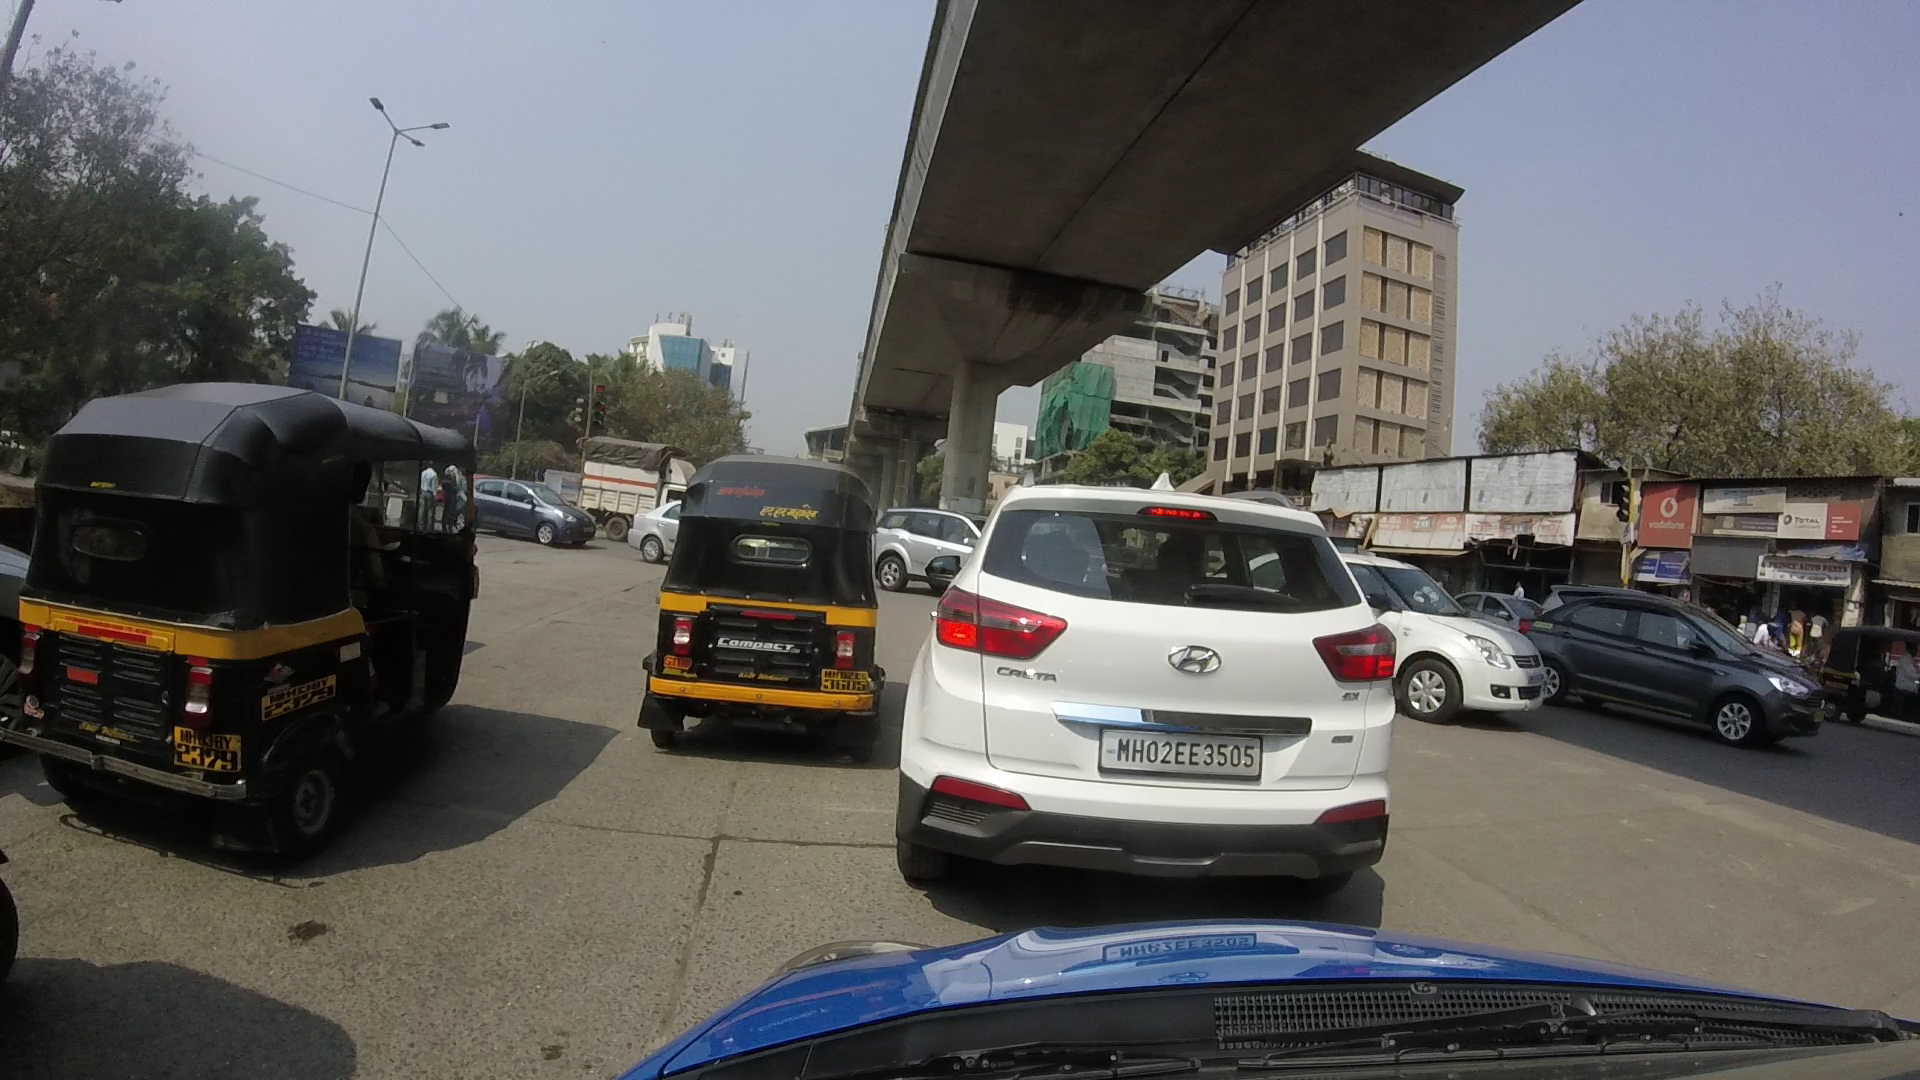car: (881, 487, 1402, 869), (1555, 589, 1808, 754), (1335, 554, 1563, 713), (876, 510, 990, 595), (465, 477, 584, 545), (618, 501, 705, 572)
rickshaw: (40, 380, 477, 829), (646, 451, 884, 731)
